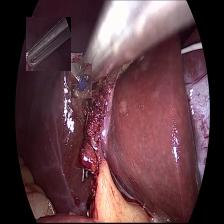Bipolar: (71, 63, 92, 98)
Grasper: (26, 17, 71, 71)
